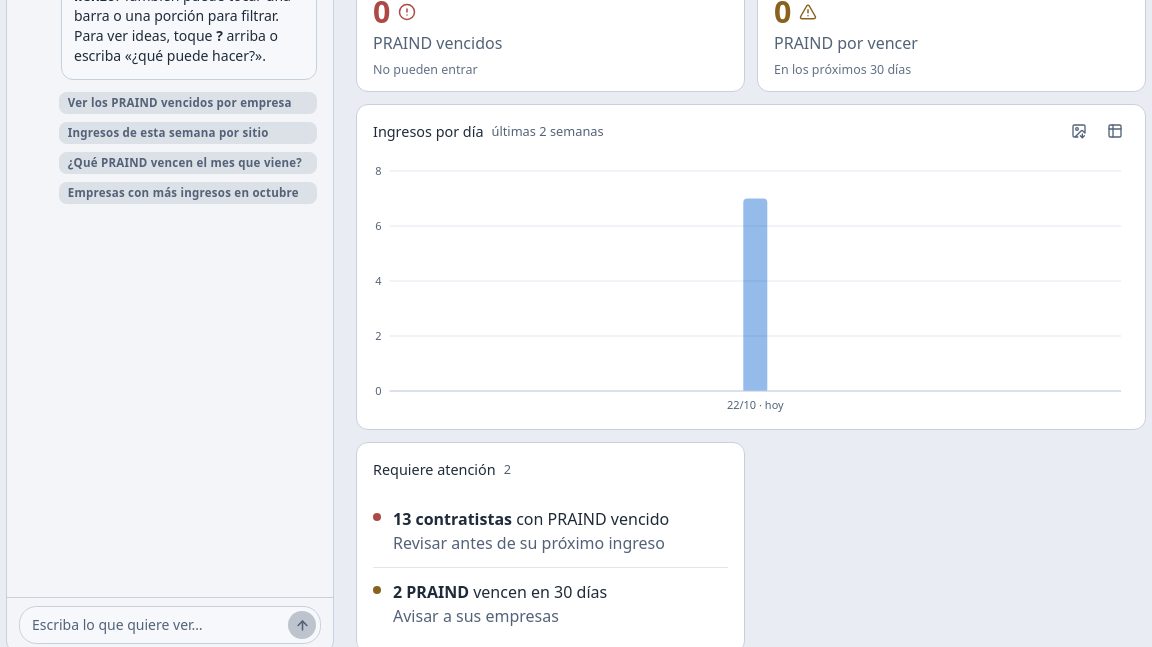
it: Asistente › chat: «¿qué podés hacer?» abre la guía sin gastar una consulta, y un ejemplo de la guía se envía
(page scrolled)
Type "¿Qué podés hacer?" into the text box named "Mensaje para el asistente". click: (156, 625)
box: [32,611,280,639]
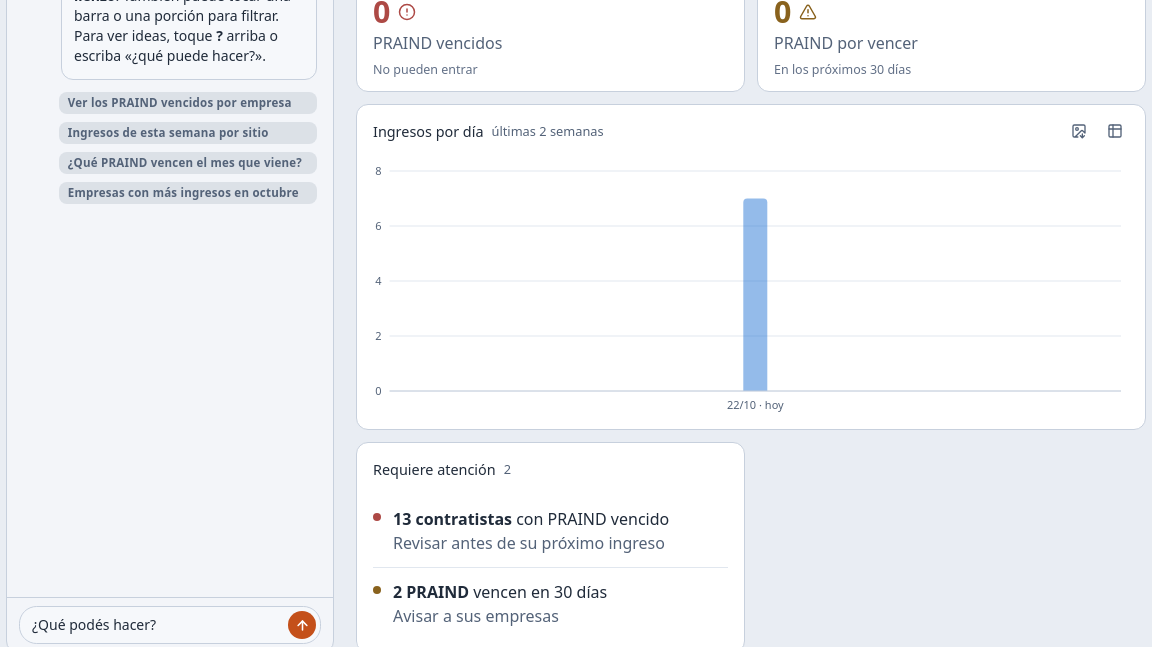
Click the button named "Enviar". click: (302, 625)
box: [288,611,316,639]
(page scrolled)
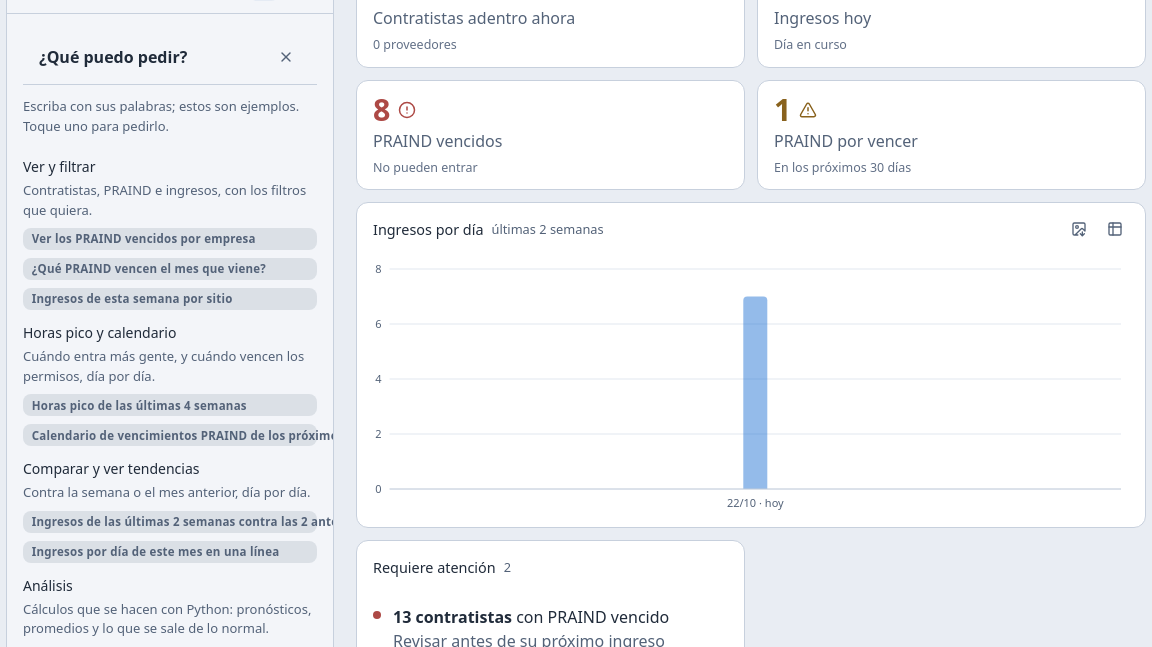
Now the heading "¿Qué puedo pedir?" is shown, box [39,45,187,69]
Click the button "Ingresos de esta semana por sitio". click: (170, 299)
box: [23,288,317,310]
(page scrolled)
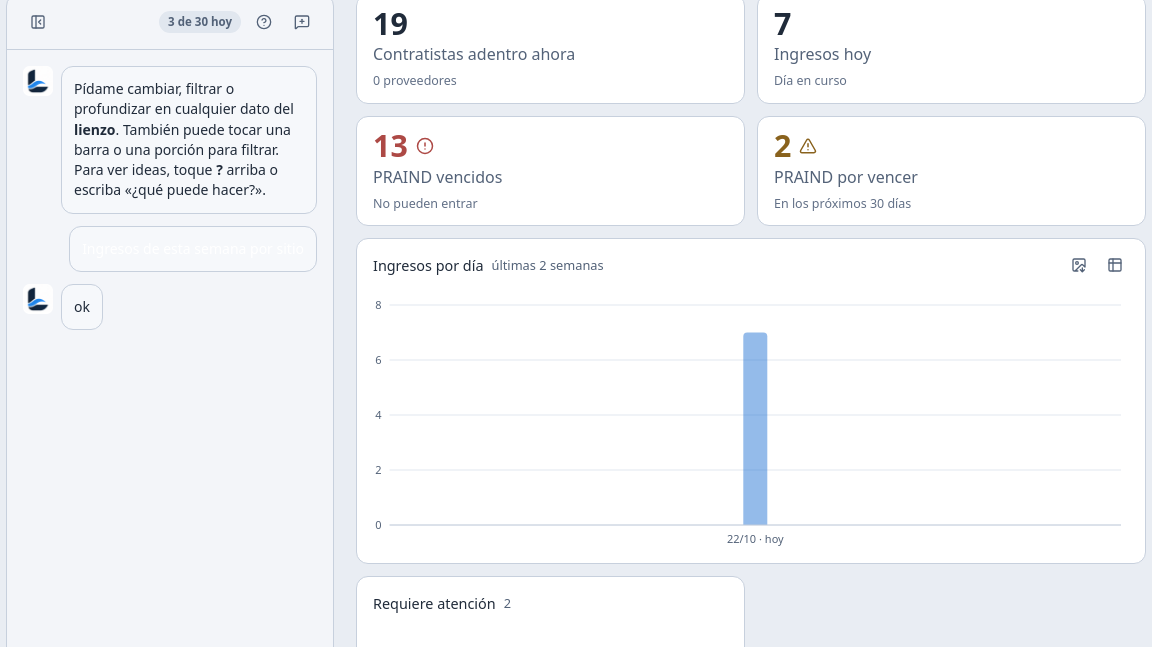
Expected: the text "Ingresos de esta semana por sitio" is shown, [69,226,317,272]
Now the heading "¿Qué puedo pedir?" is gone
